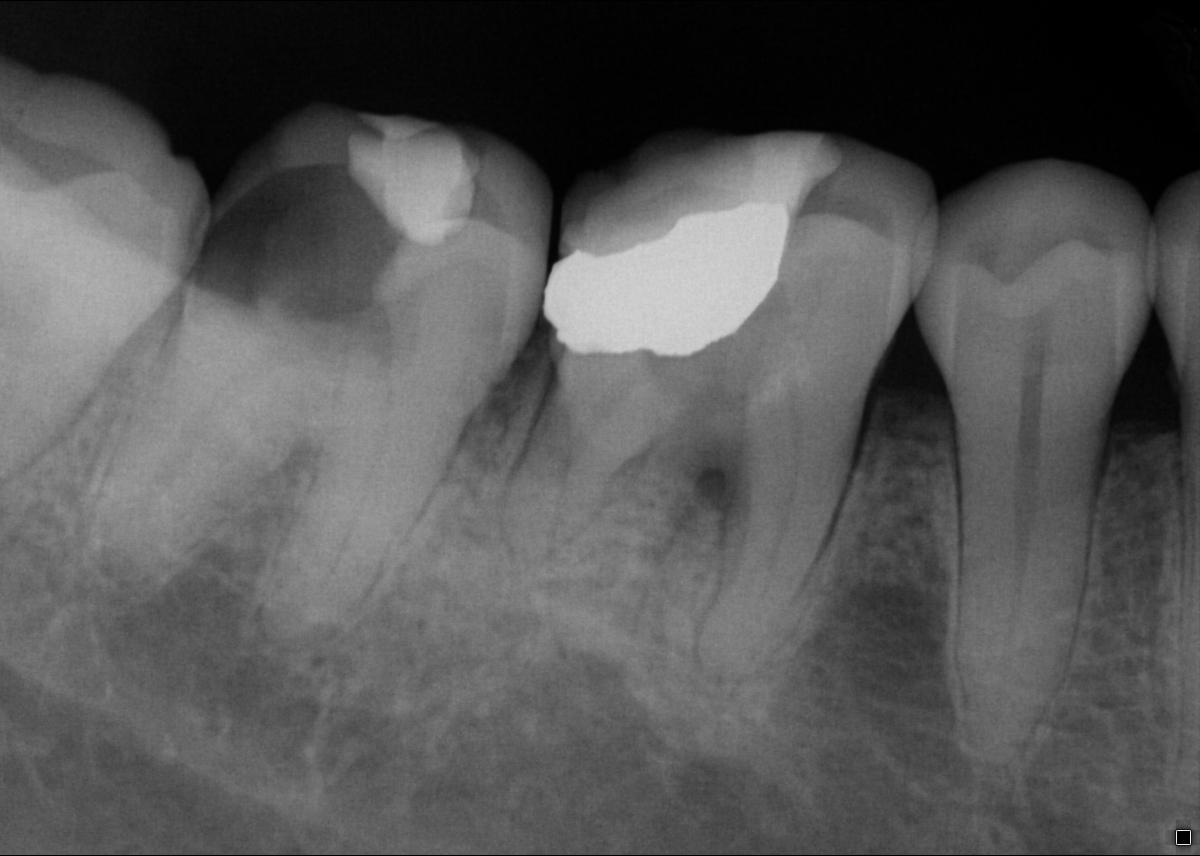Endo-Periodontal Lesion: (690, 462, 737, 513)
